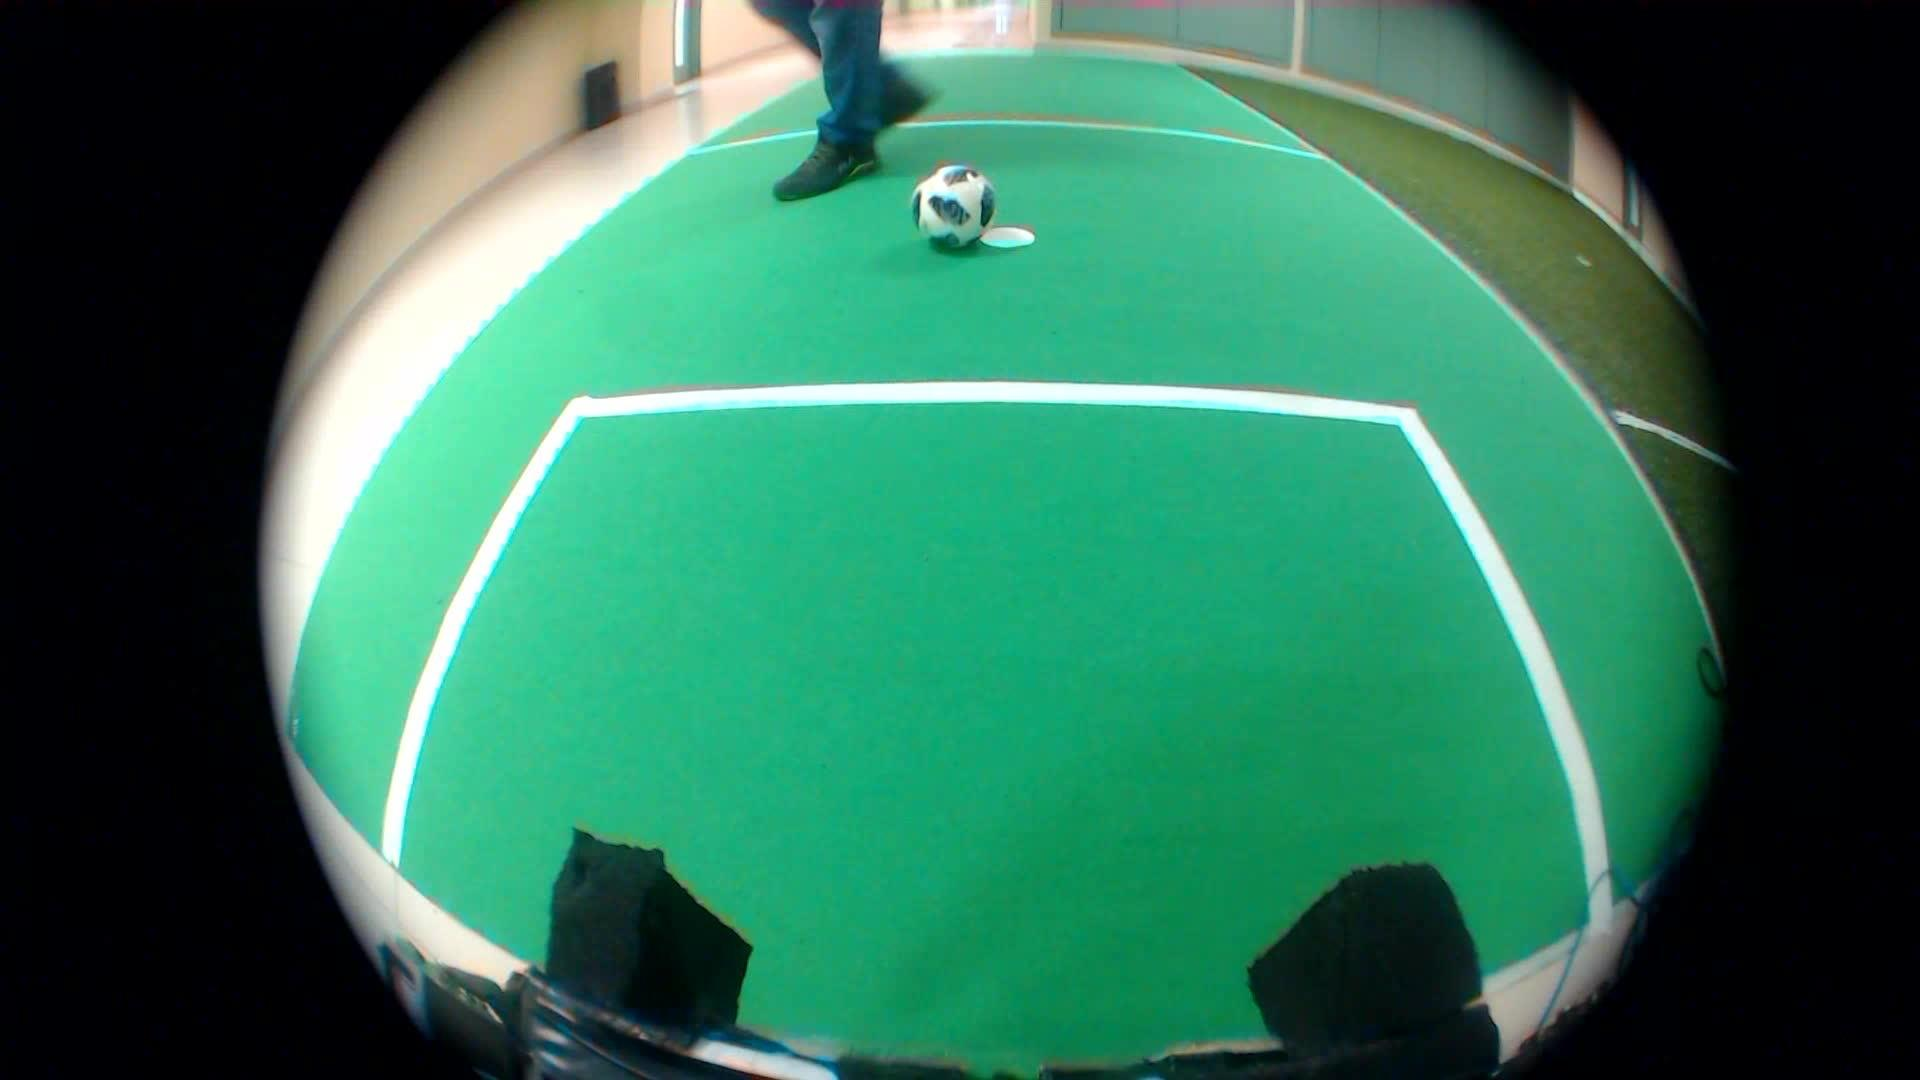ball: (898, 150, 1007, 260)
